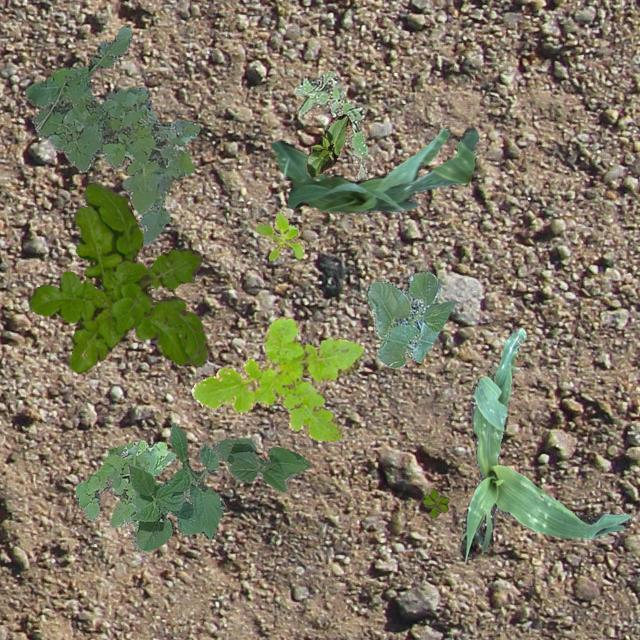crop: (460, 328, 630, 558), (270, 125, 478, 212), (126, 422, 224, 550), (364, 270, 454, 368), (212, 438, 310, 492), (304, 114, 350, 178)
weed: (25, 23, 198, 245), (28, 180, 206, 372), (190, 316, 364, 440), (74, 438, 174, 528), (294, 70, 366, 180), (254, 210, 304, 260), (422, 486, 448, 516)
